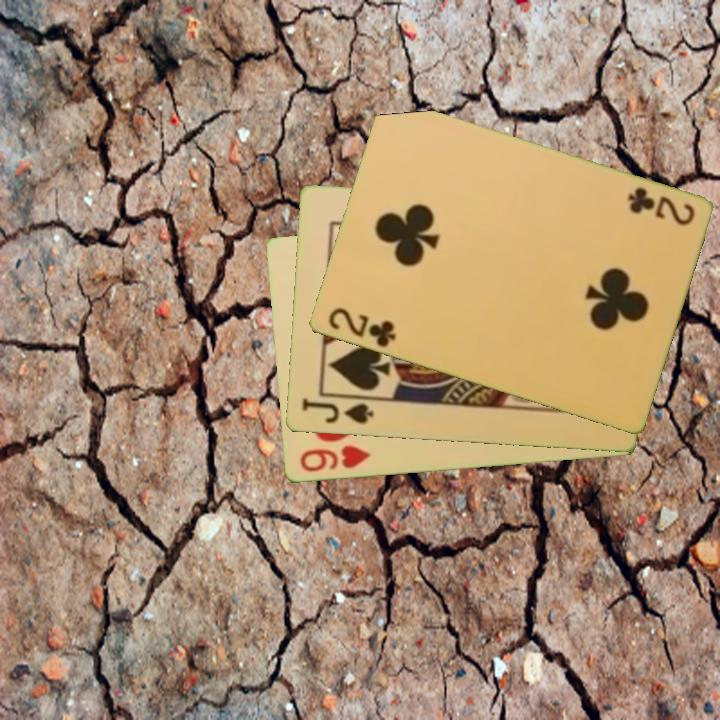2c: (324, 304, 399, 351), (623, 184, 697, 229)
9h: (296, 442, 373, 476)
Js: (298, 395, 376, 428)
